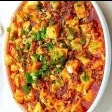mapodoufu: (4, 0, 107, 112)
